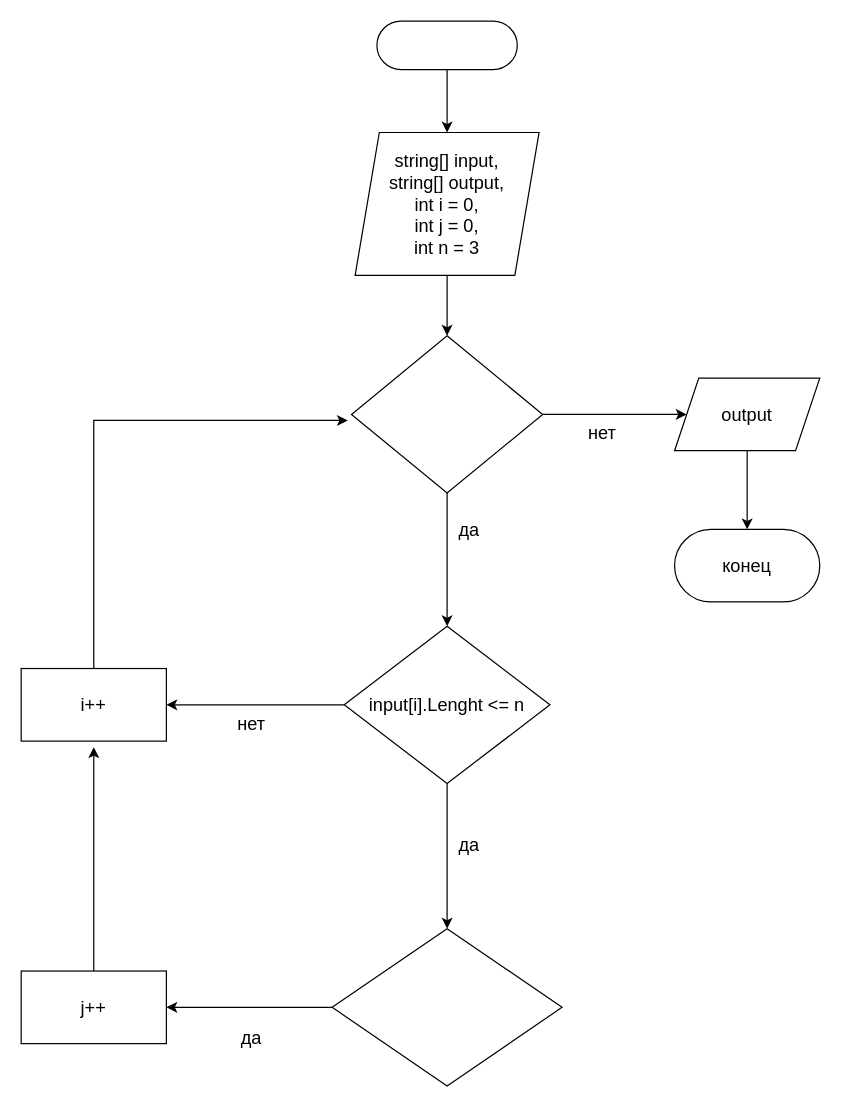
The diagram is 841 pixels wide and 1107 high, and some of its shapes have lost their labels. The shapes that lost their labels are listed below. From the top down, each one's centre as x and y in pixels, then its label:
At (446,45): "Начало".
At (446,414): "i < input.Length".
At (446,1006): "output[j] = input[i]".
